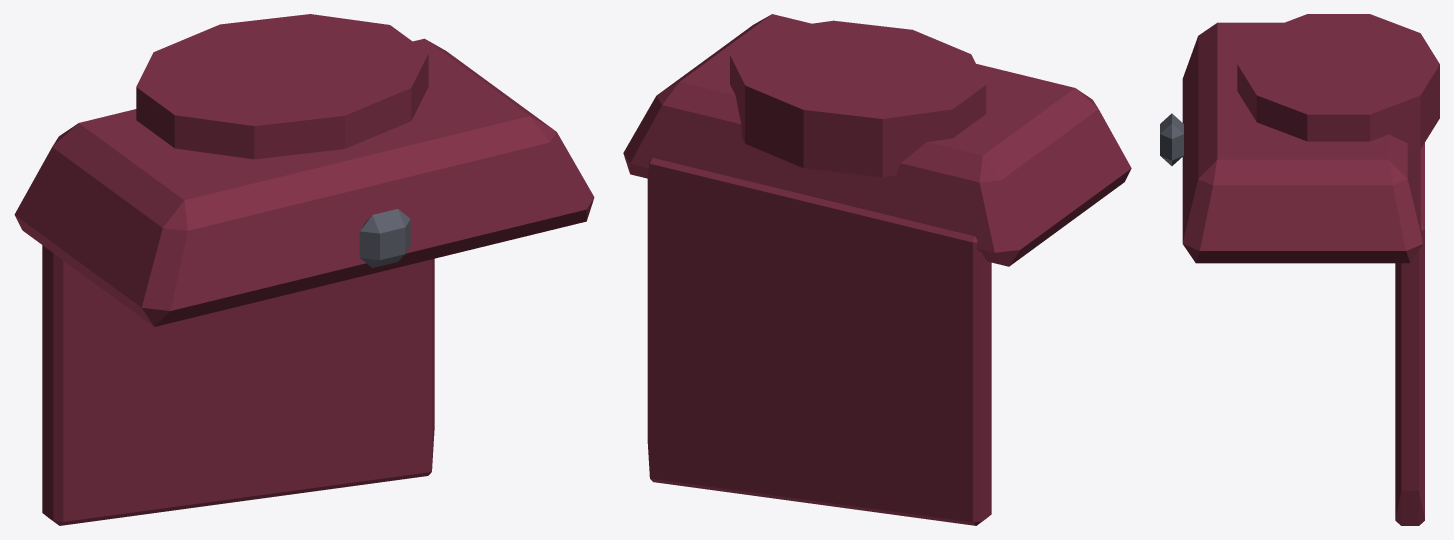
The model's file is ClothMantle.fbx.
3 renders of one model, left to right at view 1: azimuth 30°, elevation 25°; view 2: azimuth 150°, elevation 25°; view 3: azimuth 270°, elevation 25°, orthographic. The views are drawn at different scales.
Visible parts, largest first — view 1: ClothMantle__chest; view 2: ClothMantle__chest; view 3: ClothMantle__chest.
Part boxes in pixels (left/top/right/bottom): ClothMantle__chest: left=14, top=14, right=594, bottom=525; ClothMantle__chest: left=623, top=14, right=1131, bottom=525; ClothMantle__chest: left=1160, top=14, right=1439, bottom=525.
Size of the model in its own units: 0.7122 by 0.72 by 0.47.
